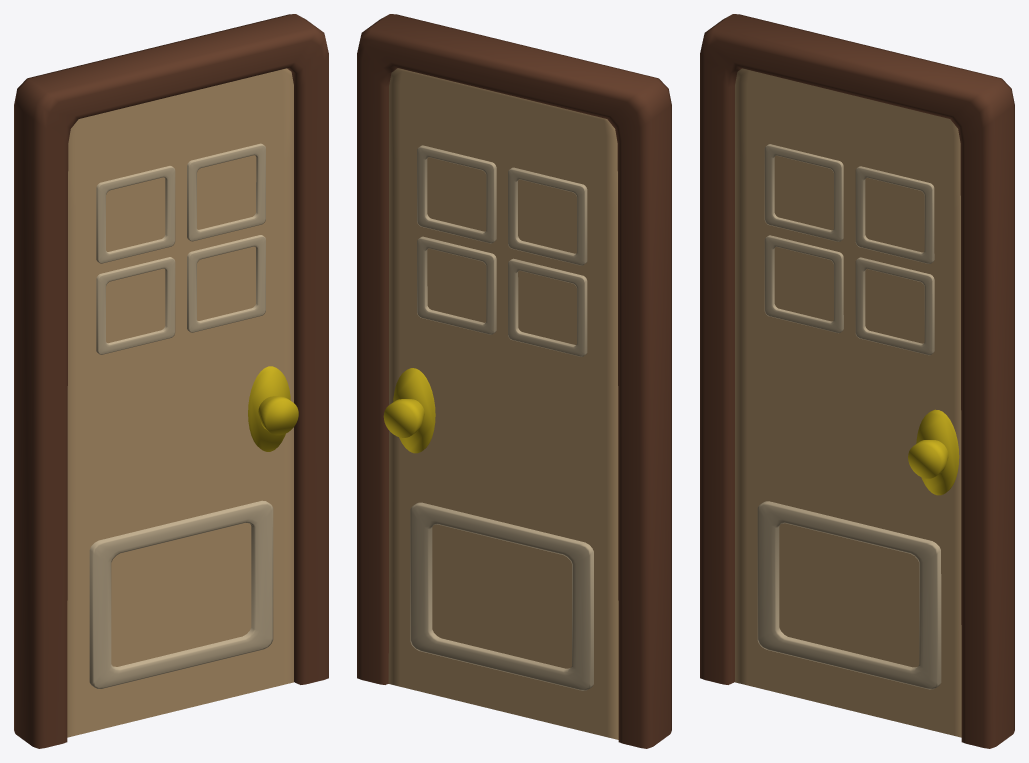
The model's file is d-door-suburb-entry.glb.
3 renders of one model, left to right at view 1: azimuth 30°, elevation 25°; view 2: azimuth 150°, elevation 25°; view 3: azimuth 330°, elevation 25°, orthographic.
Parts seen in each view (by area): view 1: woodenDoor, woodenDoor.001; view 2: woodenDoor, woodenDoor.001; view 3: woodenDoor, woodenDoor.001.
Part boxes in pixels (left/top/right/bottom): woodenDoor: left=67, top=68, right=298, bottom=737; woodenDoor.001: left=14, top=14, right=328, bottom=748; woodenDoor: left=383, top=68, right=618, bottom=739; woodenDoor.001: left=357, top=14, right=671, bottom=748; woodenDoor: left=735, top=68, right=961, bottom=737; woodenDoor.001: left=700, top=14, right=1014, bottom=748.
Bounding box in the file's own units: 0.9462 × 2 × 0.2628.
Materials: 1 (1 with a texture image).
